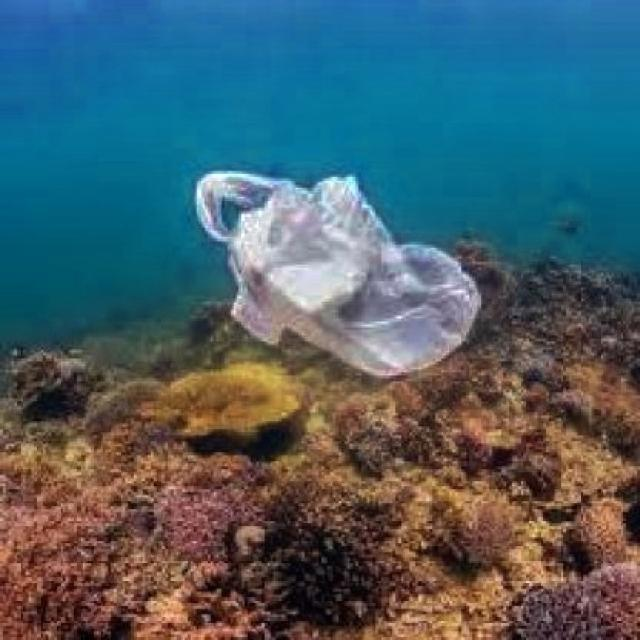pbag: (190, 168, 481, 382)
